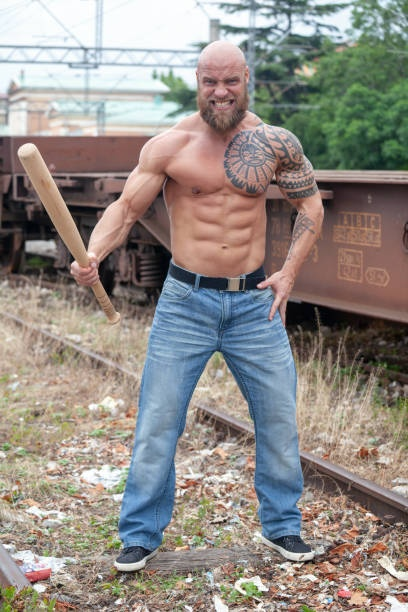bita: (19, 138, 119, 311)
